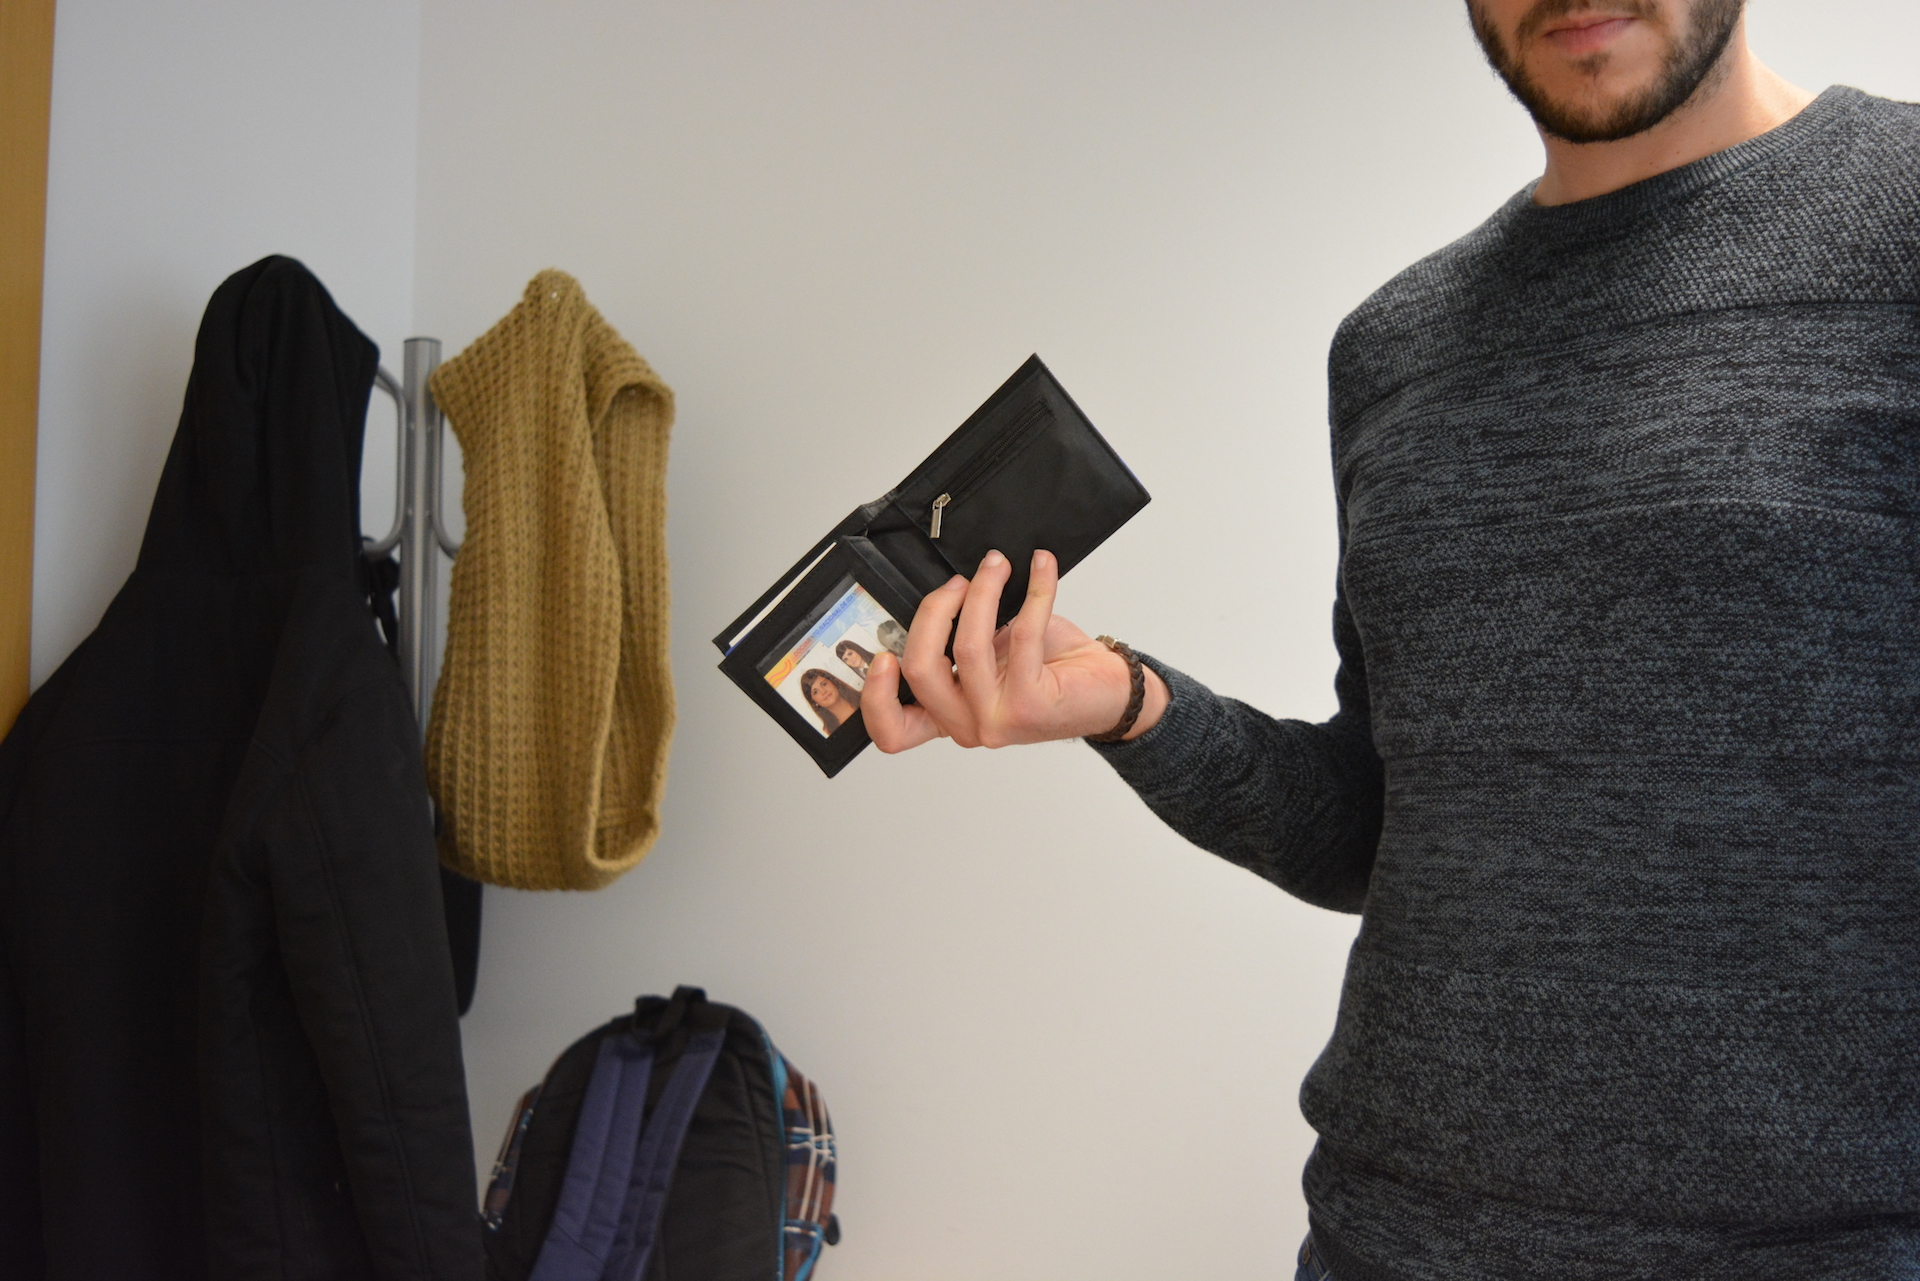monedero: (711, 352, 1154, 781)
